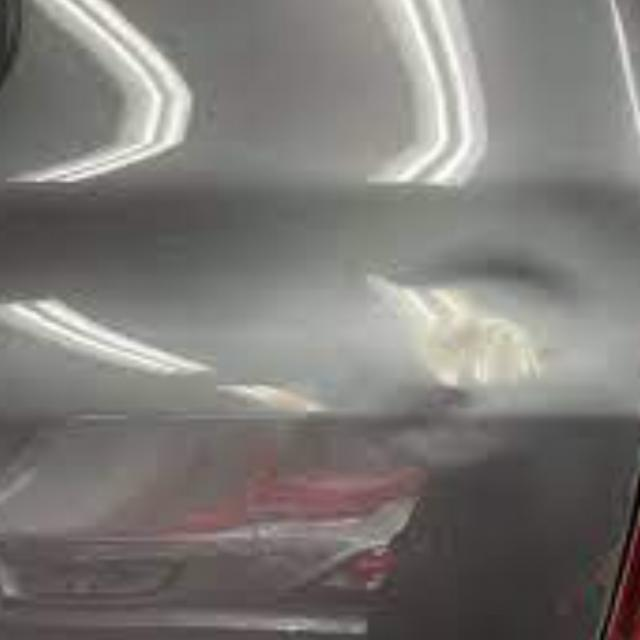dents: (374, 204, 608, 413)
